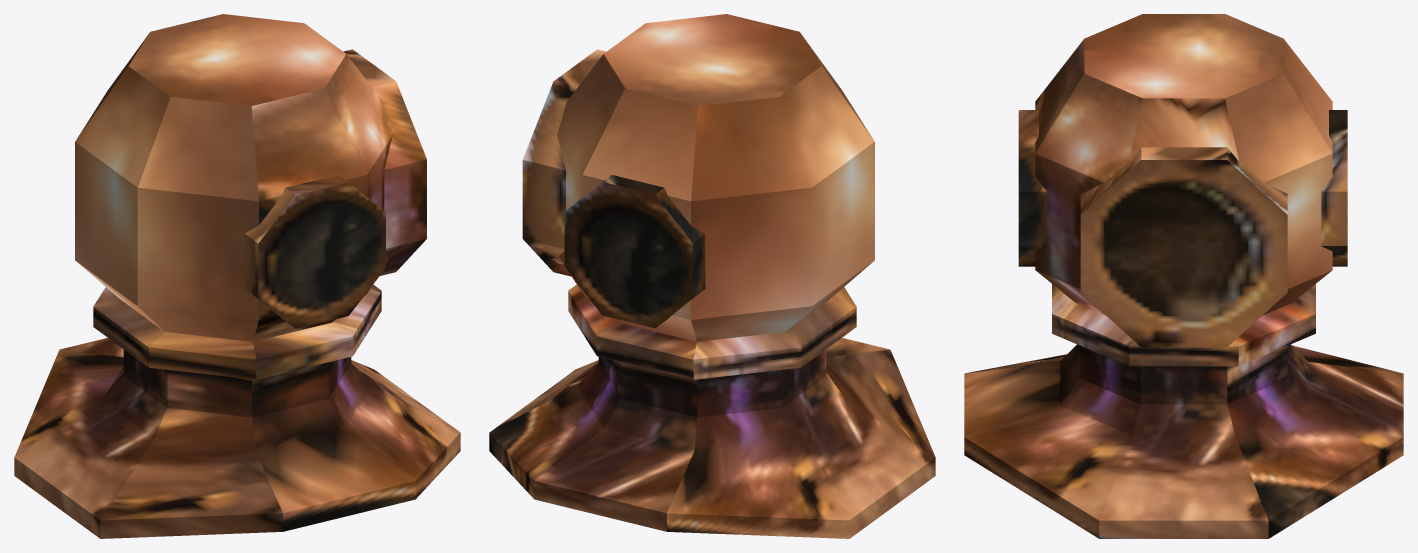
File: helmet.fbx
The picture shows the model from 3 angles, left to right: view 1: azimuth 30°, elevation 25°; view 2: azimuth 150°, elevation 25°; view 3: azimuth 270°, elevation 25°; orthographic projection.
Parts seen in each view (by area): view 1: helmet; view 2: helmet; view 3: helmet.
Boxes of the visible parts, x1,y1,x2,y2 form: helmet: [14, 14, 460, 538]; helmet: [489, 14, 935, 538]; helmet: [964, 14, 1403, 538].
Bounding box in the file's own units: 76.16 × 81.54 × 81.93.
